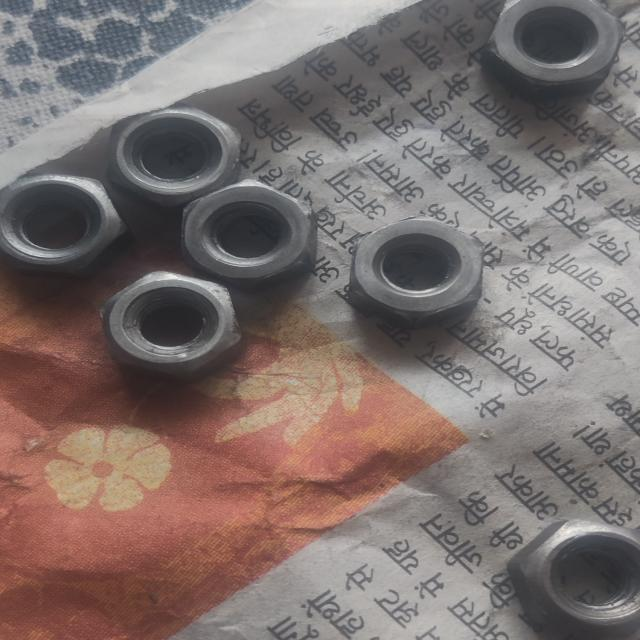disinfected nut: (507, 520, 640, 640), (100, 272, 240, 378), (183, 180, 317, 290), (347, 220, 483, 328), (480, 0, 620, 100), (110, 108, 240, 208), (0, 175, 127, 275)
